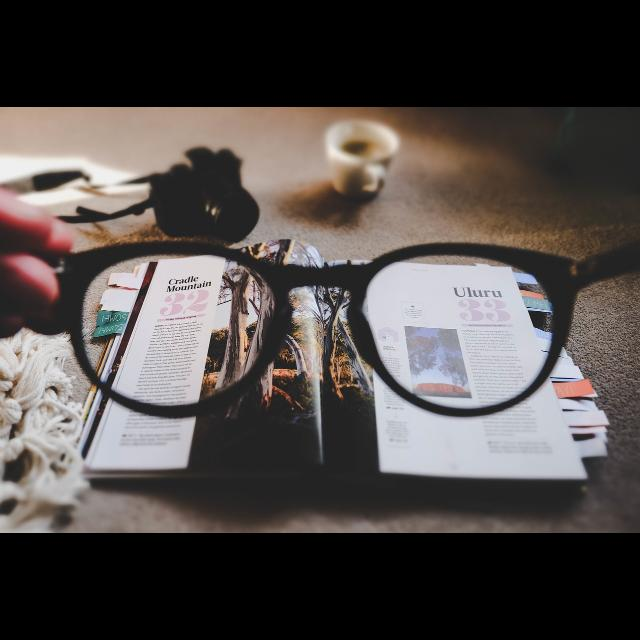glasses: (55, 243, 591, 419)
